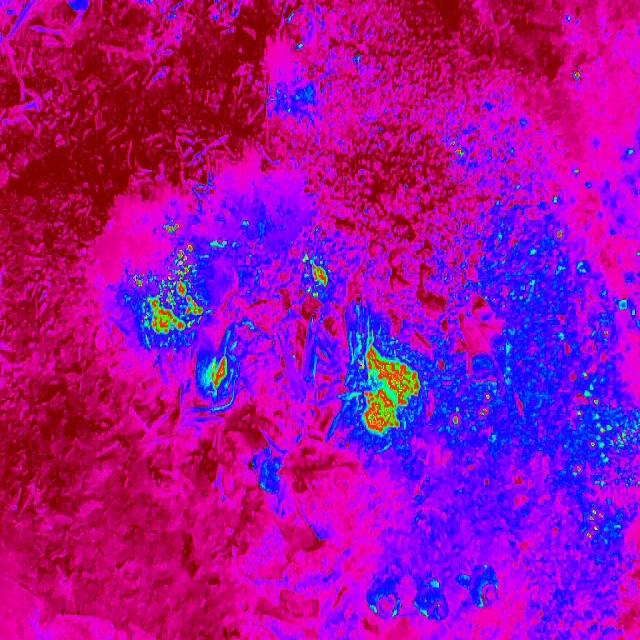fire: (535, 221, 640, 547), (129, 245, 206, 339), (358, 340, 422, 441), (294, 250, 333, 302), (446, 390, 494, 428), (206, 355, 231, 396), (446, 138, 472, 161), (160, 218, 182, 238), (572, 67, 586, 82)
